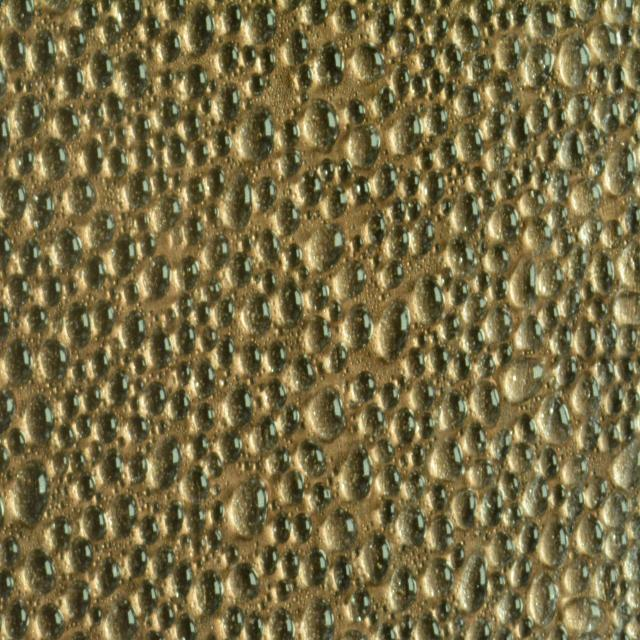dr: (13, 460, 48, 528), (232, 478, 268, 541), (309, 385, 347, 443), (376, 300, 410, 363), (18, 546, 59, 597), (304, 97, 341, 152), (306, 224, 344, 274), (340, 448, 373, 504), (459, 551, 488, 613), (411, 276, 445, 327), (561, 594, 606, 632), (360, 530, 391, 585), (540, 514, 570, 570), (446, 230, 478, 282), (559, 37, 591, 89), (3, 336, 34, 389), (352, 39, 385, 87), (240, 112, 272, 161), (186, 4, 216, 56), (298, 599, 336, 640), (538, 400, 573, 444), (223, 174, 252, 227), (470, 381, 502, 429), (321, 507, 355, 552), (152, 438, 183, 487), (347, 126, 383, 168), (40, 137, 72, 184), (105, 596, 139, 640), (506, 364, 546, 401), (530, 574, 557, 628), (510, 256, 538, 308), (119, 51, 148, 101), (343, 304, 373, 352), (608, 146, 636, 197), (26, 395, 55, 444), (240, 292, 273, 335), (392, 111, 422, 156), (277, 278, 304, 328), (396, 506, 428, 548), (229, 563, 261, 604), (570, 375, 602, 416), (53, 227, 82, 272), (40, 339, 69, 384), (87, 49, 118, 91), (110, 492, 137, 540), (66, 174, 96, 217), (196, 572, 224, 618), (86, 207, 117, 248), (142, 258, 172, 300), (224, 384, 254, 426), (524, 42, 554, 84), (389, 566, 417, 610), (534, 255, 564, 296), (430, 447, 467, 480), (15, 95, 44, 137), (425, 558, 454, 600), (512, 315, 544, 353), (52, 104, 83, 143), (316, 42, 344, 85), (338, 260, 368, 300), (296, 440, 328, 477), (452, 195, 480, 237), (248, 5, 278, 44), (66, 302, 91, 348), (561, 127, 586, 173), (442, 390, 468, 434), (27, 190, 54, 232), (283, 26, 311, 66), (489, 203, 519, 240), (530, 1, 557, 42), (588, 254, 612, 300), (455, 124, 484, 162), (489, 528, 518, 566), (2, 178, 27, 222), (360, 405, 388, 444), (454, 14, 481, 54), (78, 505, 108, 541), (571, 180, 602, 214), (485, 304, 512, 343), (455, 80, 481, 120), (410, 220, 436, 260), (32, 29, 54, 76), (276, 195, 300, 238), (451, 492, 478, 530), (36, 606, 66, 640), (306, 317, 332, 356), (184, 467, 210, 506), (302, 548, 328, 587), (618, 243, 640, 289), (592, 26, 620, 62), (613, 288, 640, 325), (4, 601, 30, 639), (205, 232, 229, 273), (68, 579, 92, 620), (574, 321, 598, 362), (460, 421, 488, 456), (154, 195, 181, 231), (126, 173, 152, 210), (290, 356, 316, 393), (18, 236, 42, 276), (576, 520, 604, 554), (216, 83, 241, 121), (374, 162, 399, 200), (114, 233, 136, 276), (3, 34, 29, 70), (299, 169, 323, 208), (372, 85, 398, 121), (385, 225, 411, 261), (254, 416, 278, 455), (506, 443, 536, 474), (560, 454, 589, 486), (175, 255, 200, 292), (69, 539, 94, 576), (268, 607, 296, 640), (482, 486, 503, 530), (107, 368, 130, 408), (106, 144, 130, 182), (499, 589, 524, 625), (524, 221, 554, 251), (84, 255, 107, 294), (7, 0, 35, 32), (349, 371, 377, 403), (278, 473, 306, 505), (592, 98, 620, 130), (122, 312, 146, 349), (228, 252, 252, 289), (100, 449, 124, 486), (346, 588, 372, 622), (374, 3, 396, 43), (394, 407, 416, 447), (265, 339, 290, 374), (525, 479, 550, 514), (62, 62, 85, 100), (184, 64, 207, 102), (365, 210, 388, 248), (468, 458, 496, 489), (409, 378, 436, 410), (218, 430, 242, 466), (150, 330, 172, 369), (255, 174, 278, 211), (258, 228, 280, 266), (98, 560, 120, 598), (159, 28, 182, 64), (93, 300, 116, 336), (172, 562, 195, 598), (154, 543, 174, 584), (426, 102, 450, 136), (82, 139, 104, 176), (117, 1, 145, 30), (323, 341, 349, 372), (8, 272, 31, 307), (145, 381, 168, 416), (379, 258, 404, 290), (428, 520, 453, 552), (164, 135, 188, 168), (240, 342, 262, 378), (193, 361, 215, 397), (309, 481, 333, 514), (222, 604, 244, 640), (562, 486, 584, 522), (567, 244, 589, 280), (499, 34, 521, 70), (126, 452, 149, 486), (163, 499, 183, 538), (510, 414, 536, 444), (177, 320, 198, 357), (49, 515, 71, 550), (138, 513, 160, 548), (518, 520, 540, 555), (63, 26, 87, 58), (554, 356, 578, 388), (596, 562, 617, 598), (527, 99, 548, 135), (517, 191, 546, 217), (486, 244, 511, 274), (487, 141, 512, 171), (104, 90, 126, 124), (324, 186, 348, 217), (193, 401, 216, 433), (488, 76, 511, 108), (510, 554, 531, 589), (472, 353, 498, 381), (218, 42, 240, 75), (158, 95, 180, 128), (333, 556, 352, 594), (125, 413, 149, 443), (436, 138, 460, 168), (280, 402, 300, 438), (0, 534, 20, 570), (128, 542, 148, 578), (582, 477, 606, 507), (602, 0, 632, 24), (76, 0, 99, 31), (468, 53, 491, 84), (379, 467, 402, 498), (214, 296, 236, 328), (509, 118, 531, 150), (207, 162, 226, 199), (266, 376, 286, 411), (602, 496, 626, 525), (578, 215, 602, 244), (308, 279, 329, 312), (463, 295, 486, 325), (566, 93, 589, 123), (0, 389, 16, 432), (621, 201, 640, 237), (14, 146, 36, 177), (500, 468, 520, 502), (416, 614, 442, 640), (577, 423, 602, 450), (335, 4, 359, 32), (391, 66, 412, 98), (483, 111, 507, 139), (405, 348, 428, 377), (136, 584, 159, 613), (621, 382, 640, 417), (278, 118, 300, 148), (188, 138, 210, 168), (211, 129, 233, 159), (394, 27, 416, 57), (98, 412, 120, 442), (538, 446, 560, 476), (551, 324, 573, 354), (560, 287, 582, 317), (490, 427, 511, 458), (217, 334, 235, 370), (495, 172, 519, 199), (426, 172, 445, 206), (616, 326, 639, 354), (42, 275, 62, 307), (594, 355, 614, 387), (569, 563, 591, 592), (606, 529, 628, 558), (537, 300, 558, 330), (444, 43, 463, 76), (624, 49, 640, 88), (602, 219, 622, 250), (279, 148, 301, 176), (345, 98, 367, 126), (350, 178, 372, 206), (621, 92, 639, 126), (134, 140, 155, 169), (224, 3, 243, 35), (28, 305, 48, 335), (90, 348, 110, 378), (182, 111, 202, 141), (430, 344, 450, 374), (488, 570, 508, 600), (582, 122, 602, 152), (175, 613, 197, 640), (381, 379, 400, 410), (102, 17, 123, 45), (448, 278, 469, 306), (596, 322, 617, 350), (185, 506, 205, 535), (244, 611, 264, 640), (550, 172, 570, 201), (453, 349, 470, 383), (305, 0, 329, 24), (260, 544, 278, 576), (183, 215, 202, 245), (130, 112, 151, 139), (426, 482, 447, 509), (405, 472, 425, 500), (274, 510, 290, 545), (614, 356, 634, 384), (468, 617, 492, 640), (402, 167, 421, 196), (171, 391, 190, 420), (417, 412, 436, 441), (82, 386, 104, 411), (59, 391, 81, 416), (377, 498, 398, 524), (294, 515, 312, 545), (607, 64, 625, 94), (429, 12, 448, 40), (600, 424, 617, 455), (466, 326, 484, 355), (282, 548, 300, 577), (185, 179, 205, 205), (441, 314, 460, 341), (8, 429, 27, 456), (86, 102, 104, 130), (470, 168, 488, 196), (615, 416, 635, 441), (607, 385, 623, 416), (122, 280, 141, 306), (505, 503, 524, 529), (489, 274, 508, 300), (572, 1, 598, 20), (554, 230, 573, 256), (0, 232, 12, 273), (144, 15, 162, 42), (417, 44, 437, 68), (284, 243, 303, 268), (540, 136, 559, 161), (164, 0, 186, 21), (57, 424, 75, 449), (75, 414, 93, 439), (536, 165, 554, 190), (275, 445, 291, 473), (157, 604, 174, 630), (588, 300, 610, 320), (547, 86, 566, 109), (260, 47, 276, 74), (176, 294, 194, 318), (204, 279, 222, 303), (410, 441, 426, 468), (274, 578, 292, 602), (494, 5, 512, 29), (296, 64, 313, 89), (78, 477, 95, 502), (262, 268, 277, 296), (550, 205, 569, 227), (411, 74, 427, 100), (208, 527, 225, 551), (520, 160, 535, 187), (200, 326, 216, 351), (448, 544, 466, 566), (496, 343, 514, 365), (141, 230, 156, 256), (558, 4, 573, 30), (160, 68, 176, 92), (249, 72, 265, 96), (476, 0, 494, 21), (408, 195, 422, 222), (52, 453, 70, 474), (88, 440, 103, 465), (175, 362, 192, 384), (320, 158, 334, 184), (430, 68, 443, 96), (0, 573, 14, 599), (337, 158, 352, 182), (71, 451, 86, 475), (1, 114, 9, 158), (195, 302, 211, 324), (192, 435, 208, 457), (225, 543, 241, 565), (398, 618, 414, 640), (0, 307, 10, 342), (72, 357, 86, 382), (392, 198, 407, 221), (549, 112, 567, 131), (376, 623, 396, 640), (243, 44, 257, 68), (208, 452, 222, 476), (99, 125, 114, 147), (205, 202, 220, 224), (419, 147, 434, 169), (590, 156, 605, 178), (514, 0, 527, 25), (210, 501, 224, 524), (0, 62, 8, 102), (414, 331, 429, 352), (154, 170, 168, 192), (240, 232, 254, 254), (328, 300, 342, 322), (40, 256, 55, 276), (435, 602, 450, 622), (547, 625, 567, 640), (594, 63, 607, 86), (476, 271, 490, 292), (482, 192, 498, 210), (552, 484, 565, 506), (115, 125, 129, 145), (153, 130, 167, 150), (133, 355, 147, 375), (440, 267, 454, 287), (399, 2, 416, 18), (380, 441, 394, 460), (494, 626, 512, 640), (618, 25, 632, 43), (136, 212, 149, 231), (519, 618, 532, 637), (421, 0, 439, 13), (351, 234, 364, 252), (0, 446, 9, 472), (132, 378, 146, 394), (12, 77, 25, 94), (128, 394, 140, 412), (298, 264, 310, 282), (145, 629, 164, 640), (180, 534, 191, 553), (584, 281, 596, 298), (66, 280, 78, 296), (164, 308, 176, 324), (414, 14, 424, 32), (445, 82, 456, 98), (397, 373, 408, 389), (92, 609, 103, 625), (202, 97, 212, 114), (486, 22, 496, 38), (99, 0, 112, 12), (430, 329, 439, 346), (0, 495, 5, 525), (172, 172, 181, 188), (442, 200, 451, 215), (46, 88, 57, 100), (121, 354, 132, 366), (299, 91, 309, 104), (35, 6, 44, 20), (400, 454, 409, 468), (24, 80, 34, 92), (209, 80, 218, 93), (158, 421, 166, 435), (244, 96, 252, 109), (146, 47, 155, 58), (79, 104, 87, 116), (213, 484, 221, 496), (196, 558, 204, 570), (442, 625, 450, 637), (632, 134, 640, 146), (419, 31, 426, 44), (126, 113, 134, 124), (109, 287, 117, 298), (256, 395, 263, 407), (513, 99, 520, 111), (176, 602, 184, 612), (479, 243, 487, 253), (306, 208, 312, 221), (484, 36, 490, 49), (447, 172, 454, 183), (118, 436, 125, 447), (353, 546, 360, 557), (254, 272, 260, 284), (245, 461, 253, 470), (18, 528, 24, 540), (271, 499, 277, 511), (230, 124, 237, 134), (372, 613, 379, 623), (59, 23, 65, 34), (10, 144, 16, 155), (13, 318, 19, 329), (7, 470, 13, 481), (134, 102, 141, 111), (147, 6, 154, 15), (146, 488, 153, 497), (148, 85, 154, 95), (364, 10, 370, 20), (419, 103, 425, 113), (491, 52, 496, 64), (222, 376, 228, 386), (603, 134, 609, 144), (121, 223, 128, 231), (459, 177, 466, 185), (84, 92, 90, 101), (139, 41, 145, 50), (2, 218, 8, 227), (68, 474, 74, 483), (256, 460, 262, 469), (53, 20, 58, 30), (64, 486, 69, 496), (154, 501, 159, 511), (372, 2, 379, 9), (35, 22, 41, 30), (218, 36, 224, 44), (218, 72, 224, 80), (292, 108, 298, 116), (154, 314, 160, 322), (177, 70, 182, 79), (278, 327, 283, 336), (481, 229, 486, 238), (120, 213, 126, 220), (450, 186, 455, 194), (436, 244, 440, 254), (486, 344, 491, 352), (260, 382, 264, 392), (61, 501, 66, 509), (301, 422, 306, 430), (254, 229, 258, 238), (48, 509, 52, 518), (98, 493, 102, 502), (267, 80, 272, 87), (148, 102, 152, 110), (272, 322, 277, 328), (48, 24, 52, 31), (49, 13, 53, 20), (429, 94, 434, 99), (382, 608, 387, 613), (45, 16, 48, 24), (153, 438, 157, 444), (151, 420, 154, 426), (151, 429, 155, 433)
